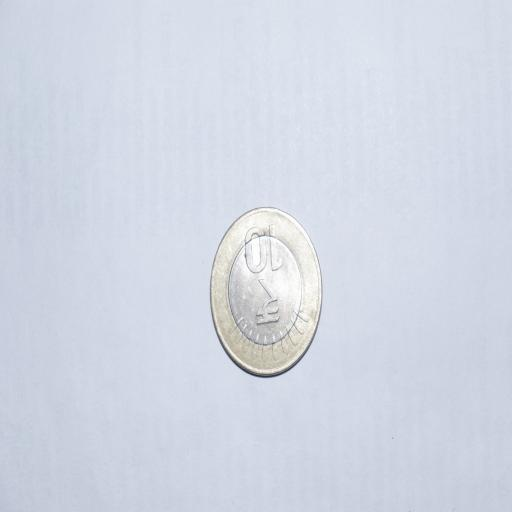rupee10: (207, 202, 326, 378)
